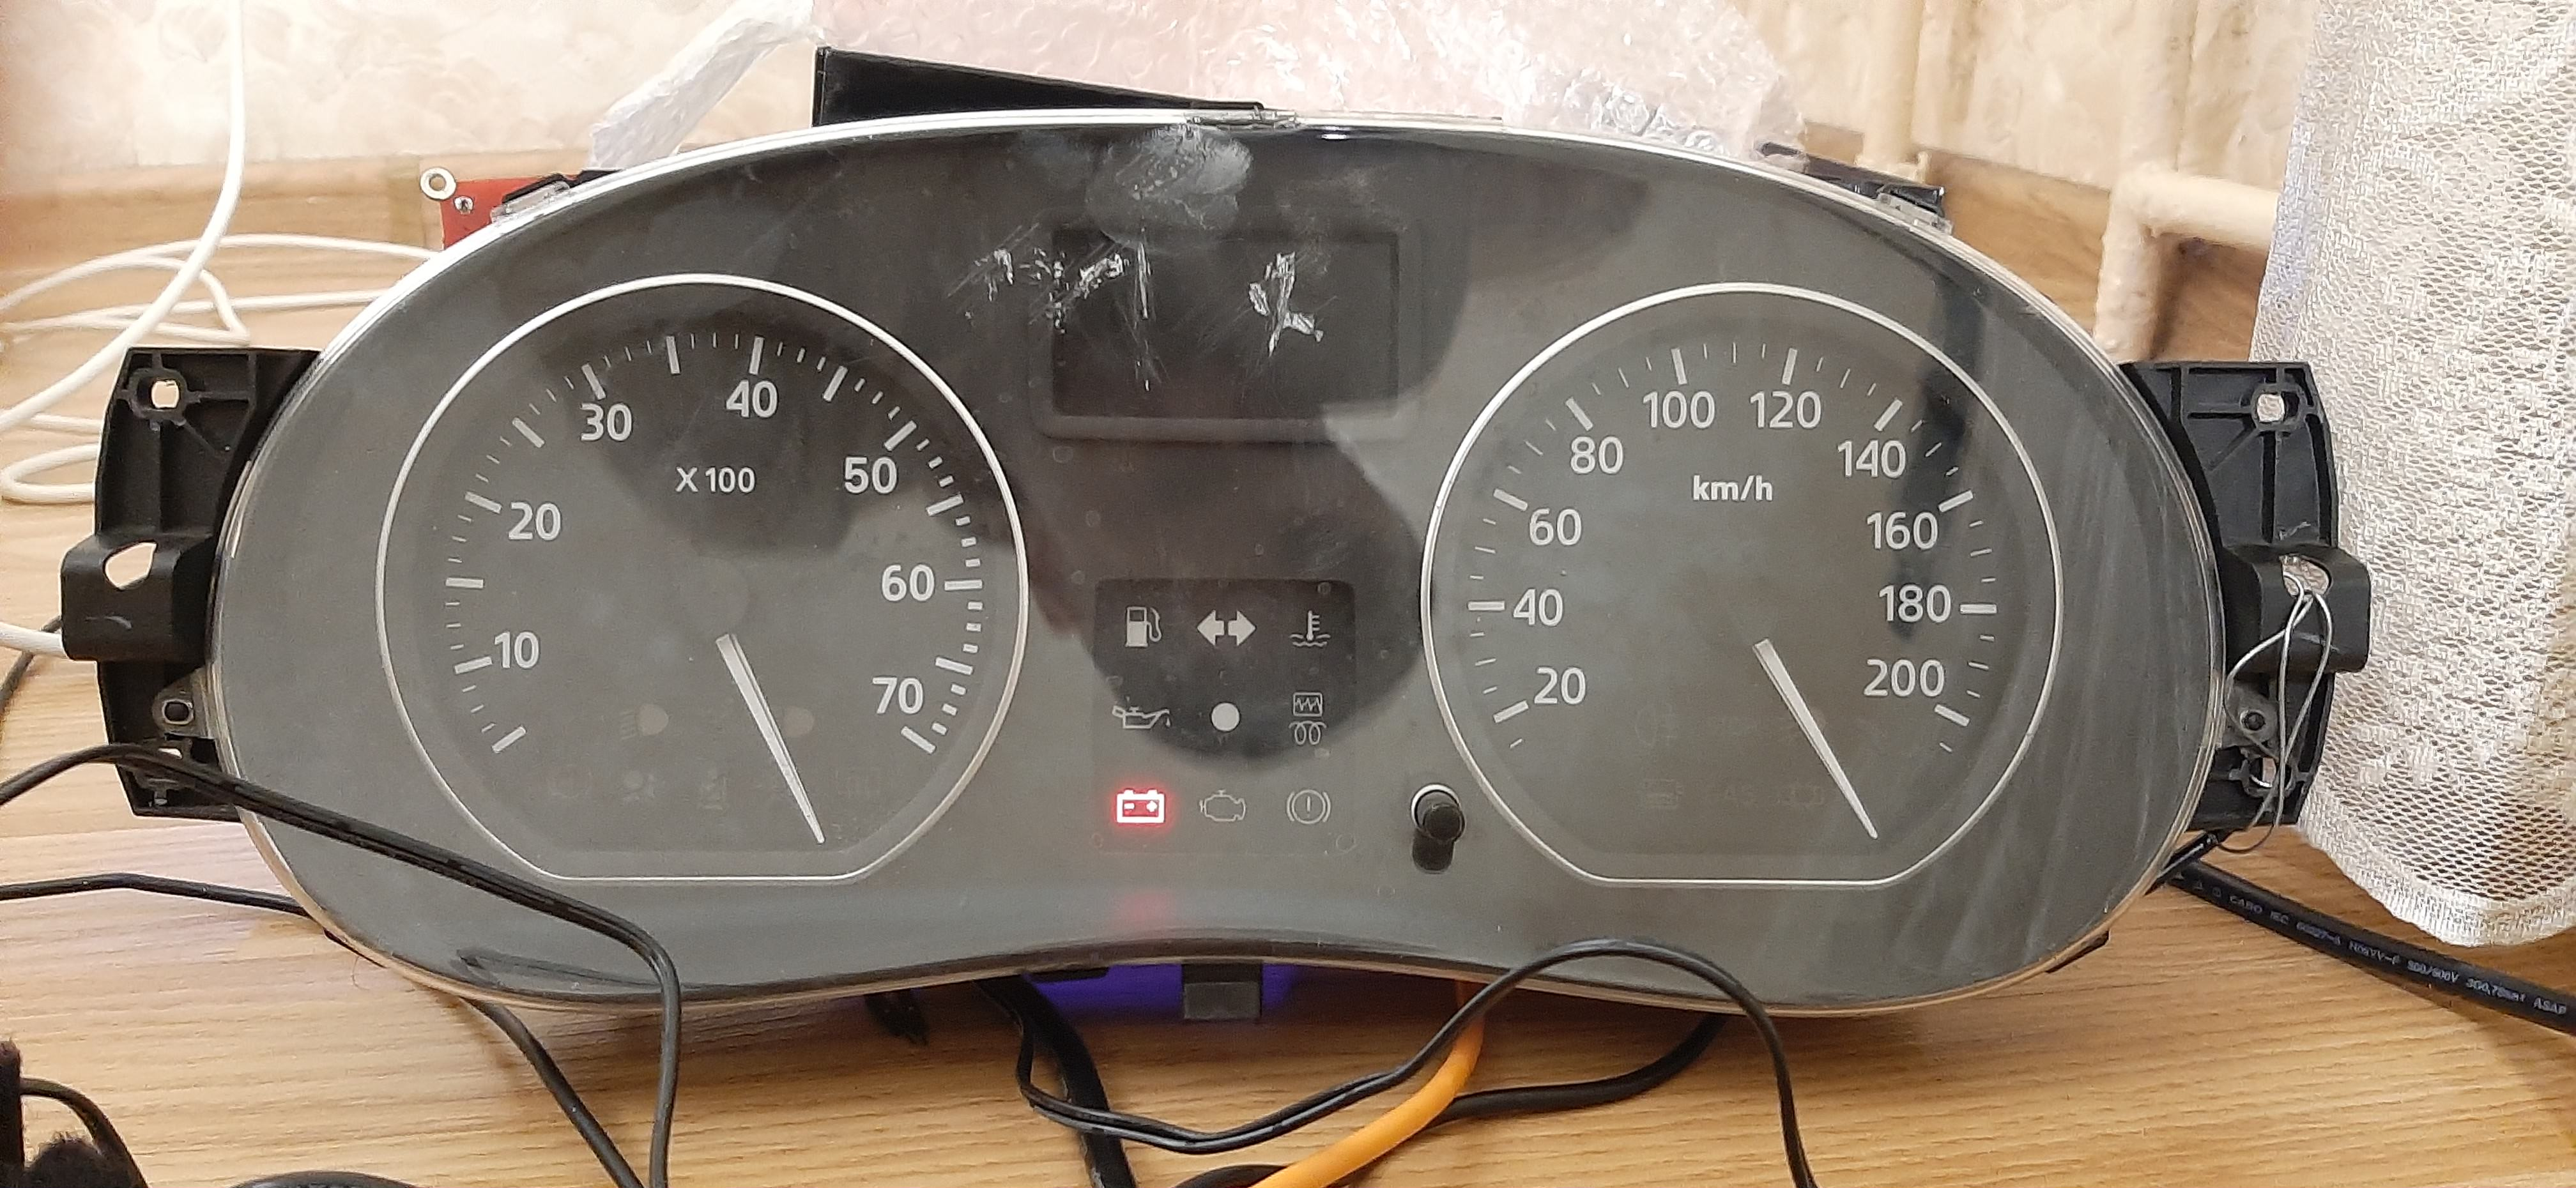accomulator1: (1111, 785, 1170, 830)
